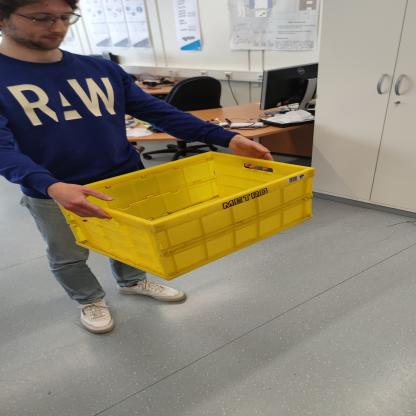box: (40, 153, 336, 278)
